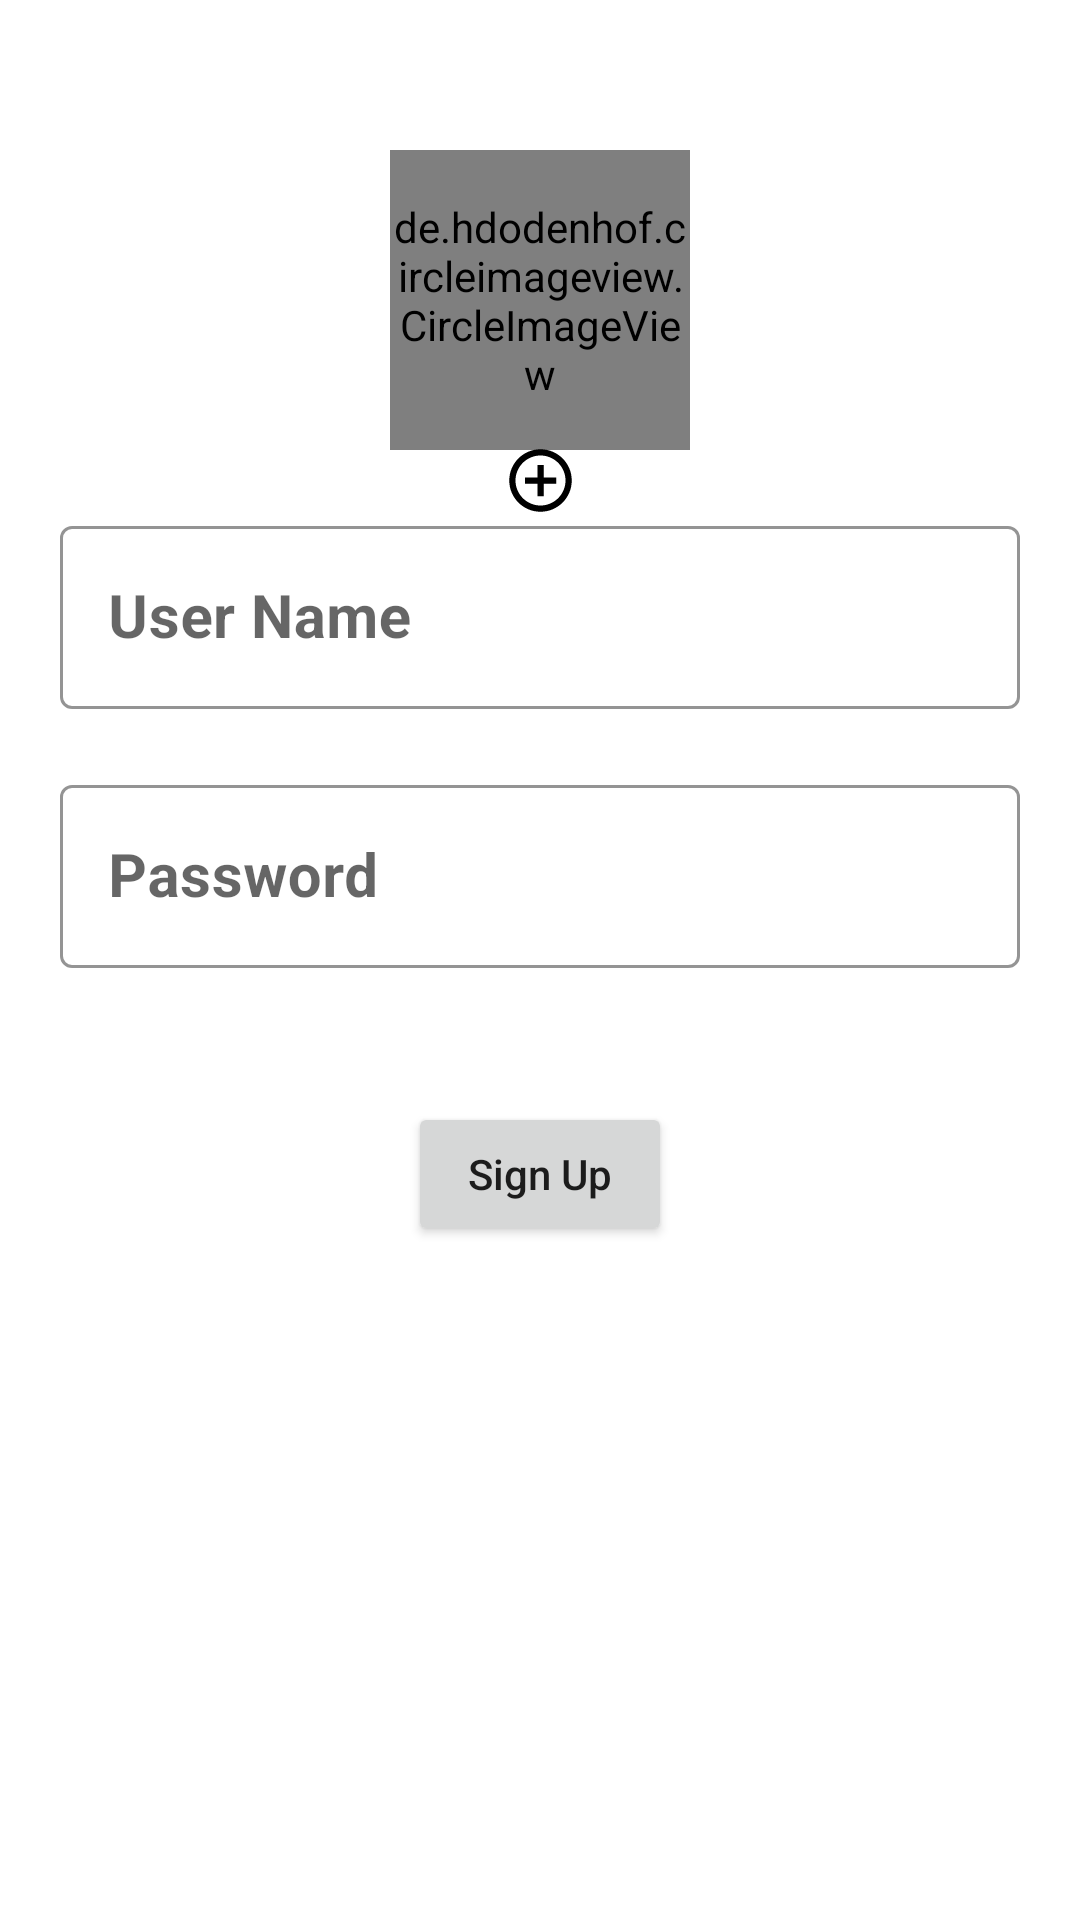

Icons on this 1080*1920 Android screen, each with its box as Rect(x1, y1, x2, y2):
add circle: Rect(503, 443, 578, 512)
